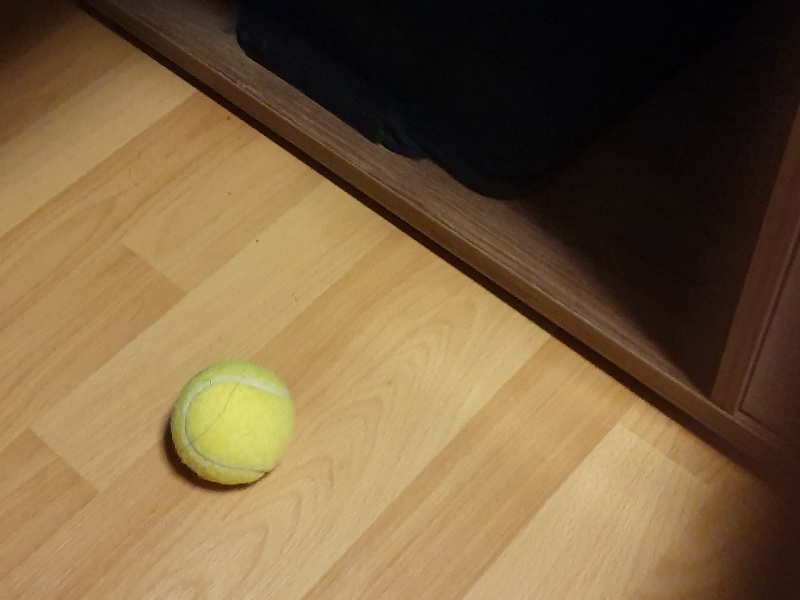Tennisball: (157, 356, 306, 498)
